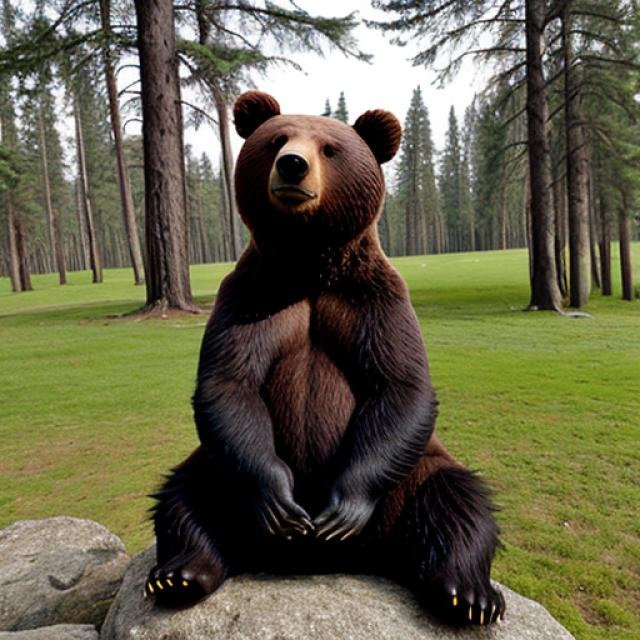bear: (162, 70, 542, 640)
